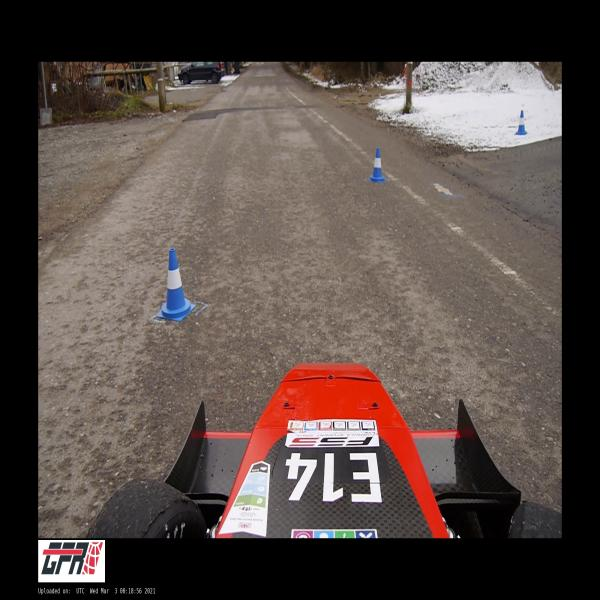blue_cone: (157, 248, 195, 321), (370, 148, 384, 181), (516, 110, 527, 134)
